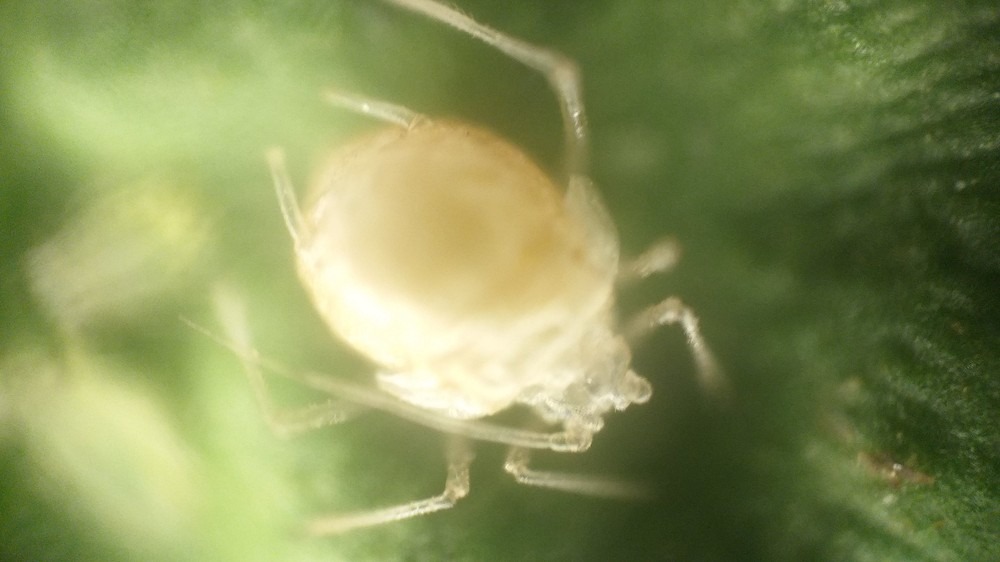Pulgon: (179, 3, 746, 556)
